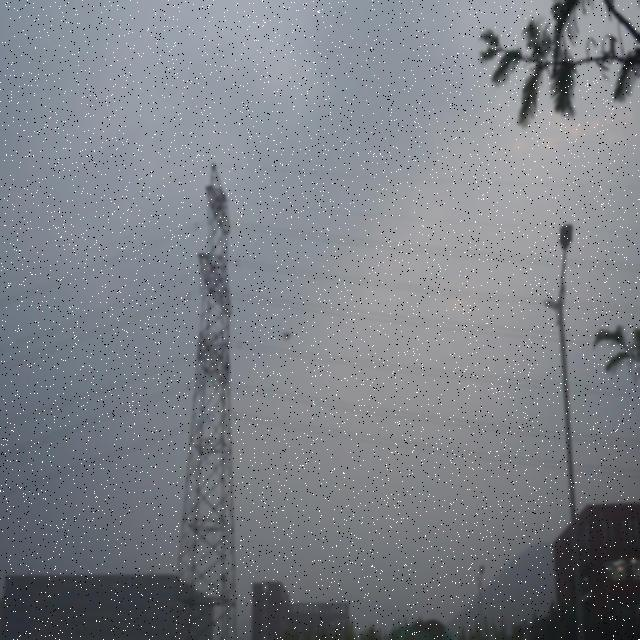UAV: (281, 331, 293, 340)
